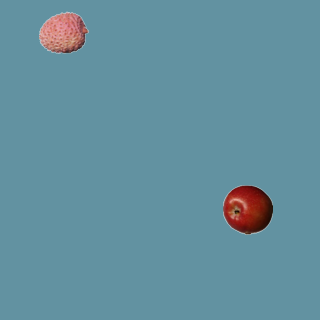Apple Braeburn: (222, 184, 272, 234)
Lychee: (38, 7, 88, 57)
